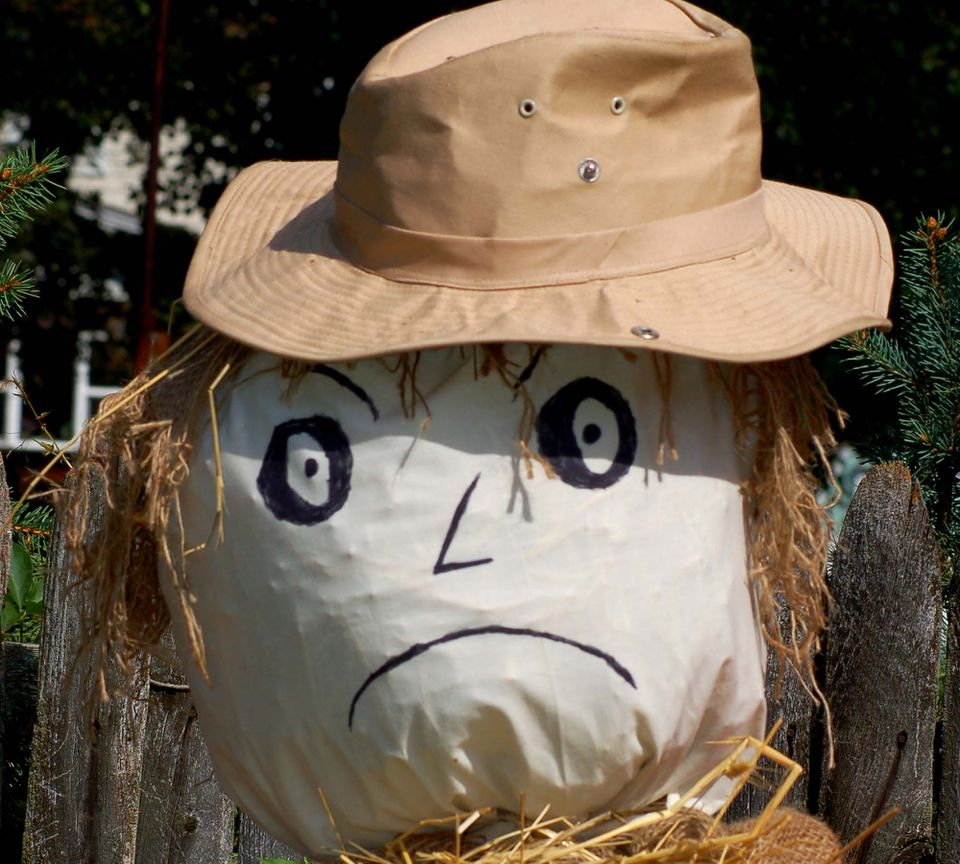person-like: (78, 4, 902, 864)
